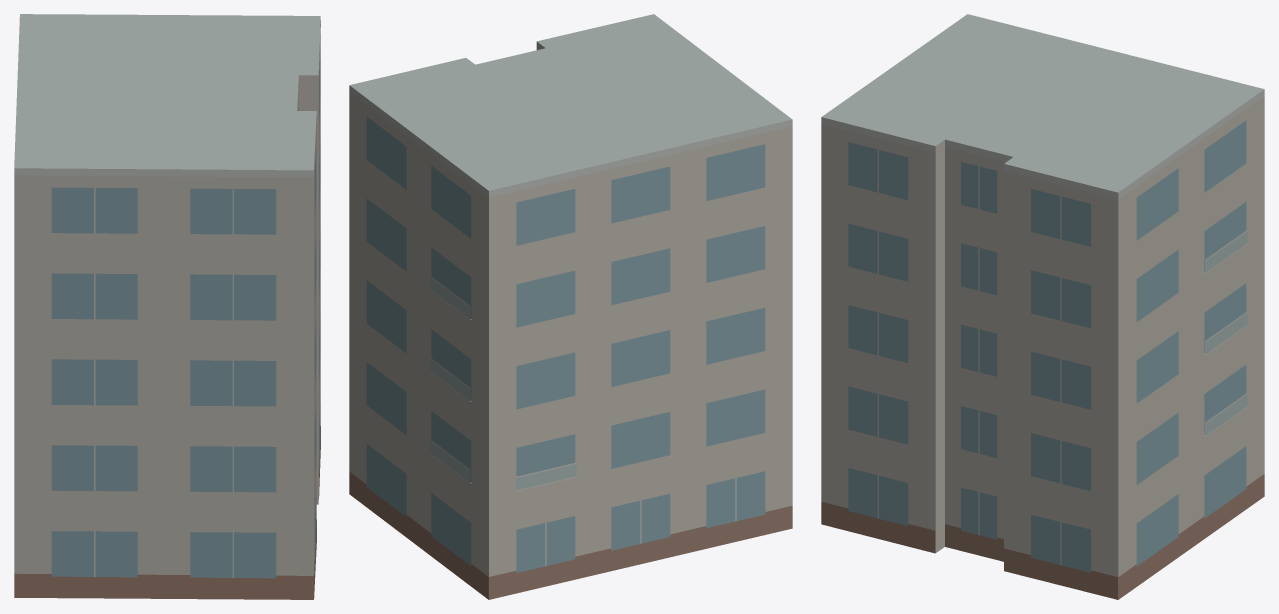
The model's file is survey-upis-32969632.glb.
3 views of the same model, side by side, from view 1: azimuth 30°, elevation 25°; view 2: azimuth 150°, elevation 25°; view 3: azimuth 270°, elevation 25° (orthographic). The views are drawn at different scales.
Visible parts, largest first — view 1: survey-upis-32969632.tmp; view 2: survey-upis-32969632.tmp; view 3: survey-upis-32969632.tmp.
Boxes of the visible parts, x1,y1,x2,y2 form: survey-upis-32969632.tmp: (14, 14, 320, 599); survey-upis-32969632.tmp: (349, 14, 792, 599); survey-upis-32969632.tmp: (821, 14, 1264, 599).
Size of the model in its own units: 13.84 by 14.7 by 14.51.
